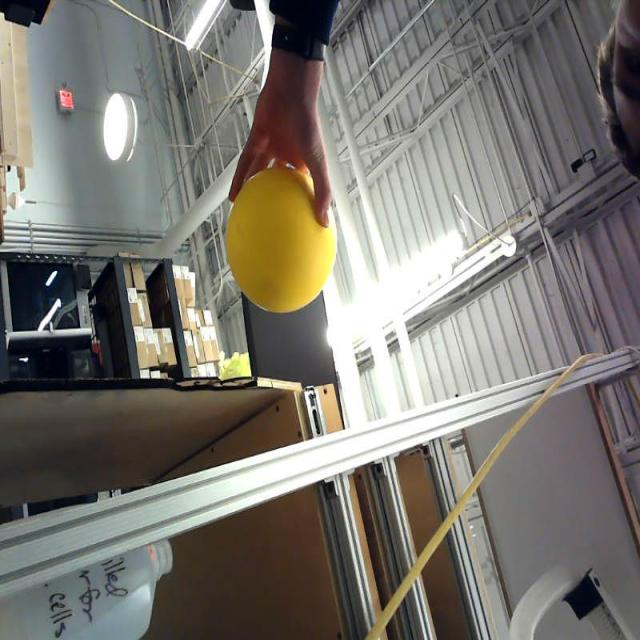Fuel: (226, 166, 337, 314)
